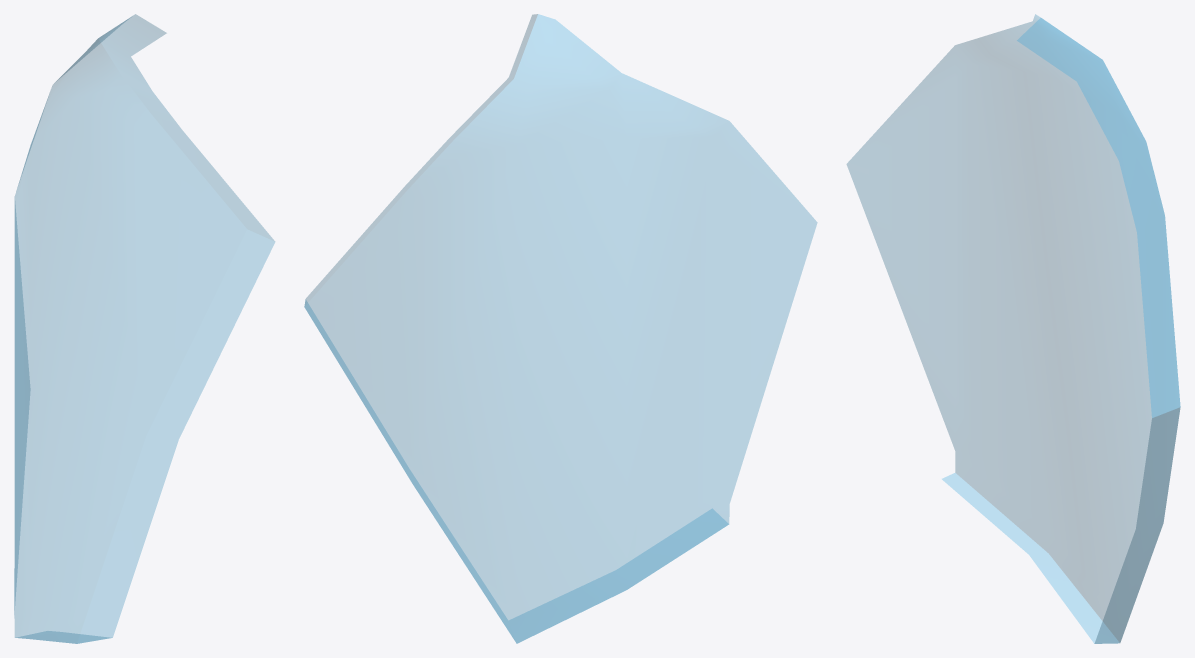
The model's file is p_hvs_minidungeon_rewardlocker_shatterglass_part05.fbx.
3 views of the same model, side by side, from view 1: azimuth 30°, elevation 25°; view 2: azimuth 150°, elevation 25°; view 3: azimuth 270°, elevation 25° (orthographic). The views are drawn at different scales.
Parts seen in each view (by area): view 1: 5_shatterglass; view 2: 5_shatterglass; view 3: 5_shatterglass.
Part boxes in pixels (x1=…): 5_shatterglass: x1=14, y1=14, x2=274, y2=643; 5_shatterglass: x1=304, y1=14, x2=817, y2=643; 5_shatterglass: x1=847, y1=14, x2=1180, y2=643.
Size of the model in its own units: 1.44 by 2.24 by 1.07.
